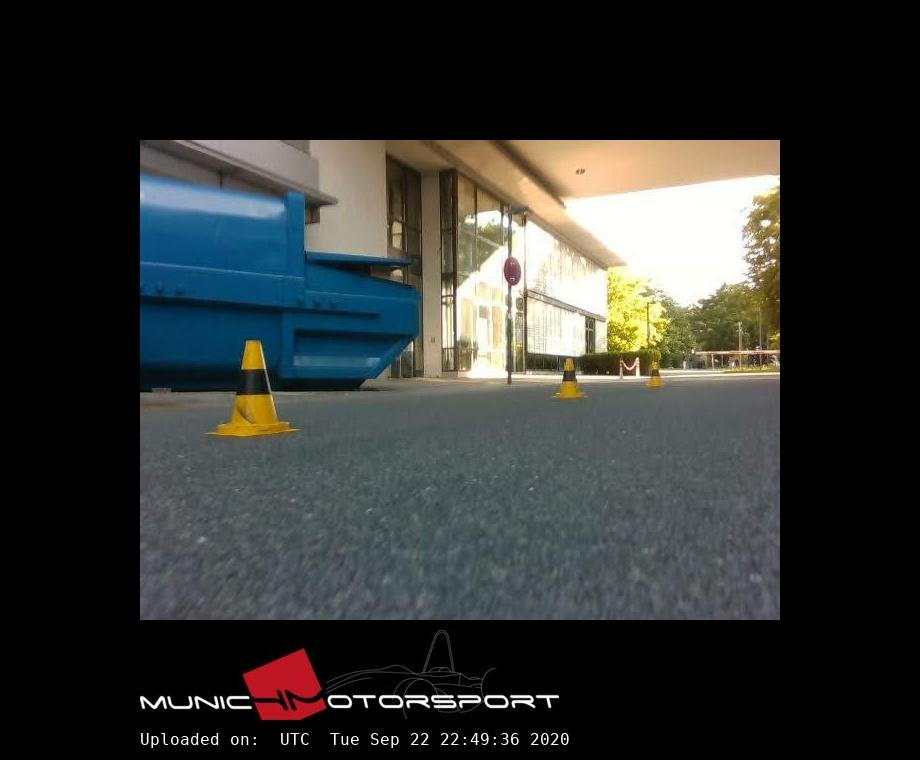yellow_cone: (208, 340, 299, 436), (552, 358, 587, 398), (647, 363, 665, 386)
